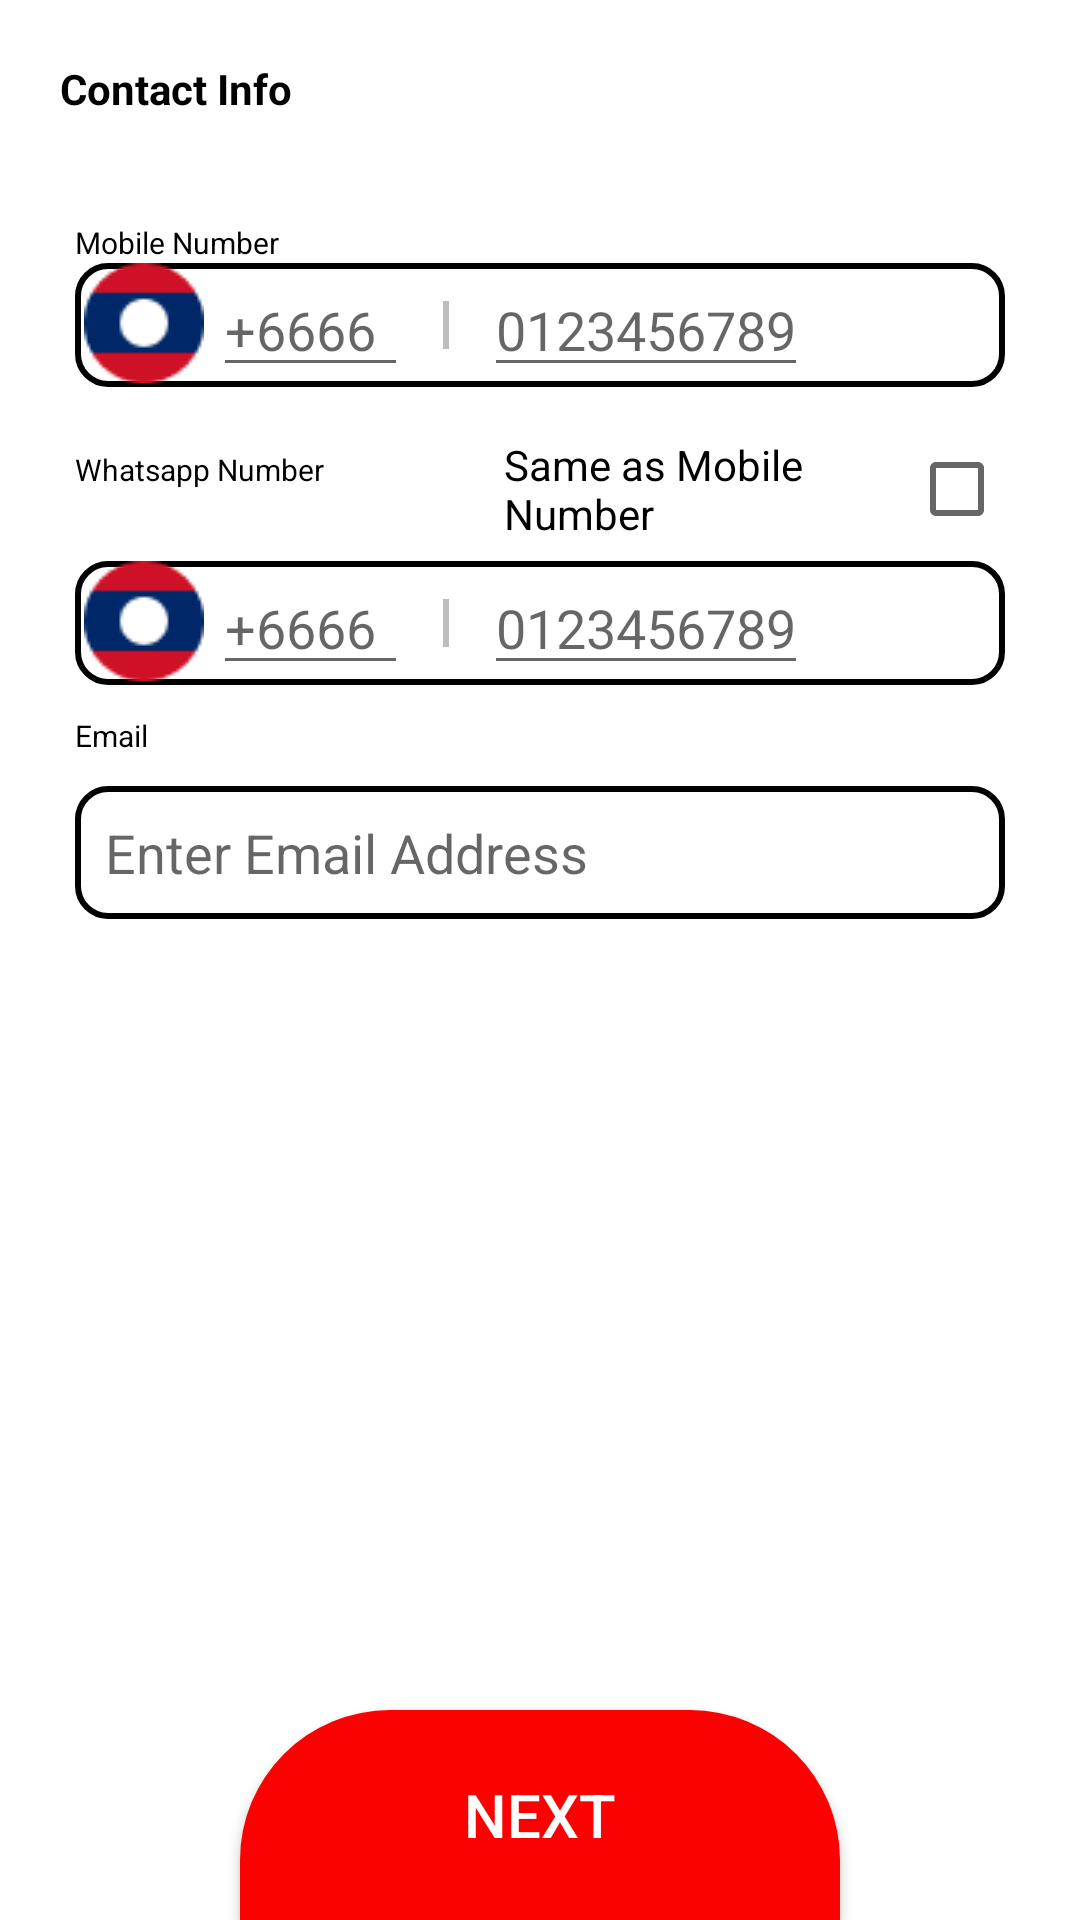

Screen size 1080 x 1920. Icon name, then its center in pixels as point (x, y):
laos: point (144, 323), point (144, 621)
